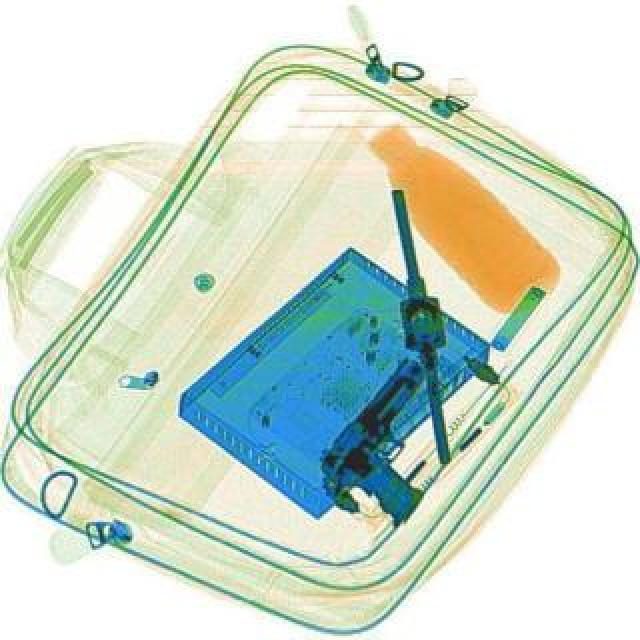gun: (308, 356, 492, 532)
